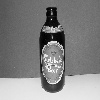beer: (39, 6, 70, 95)
